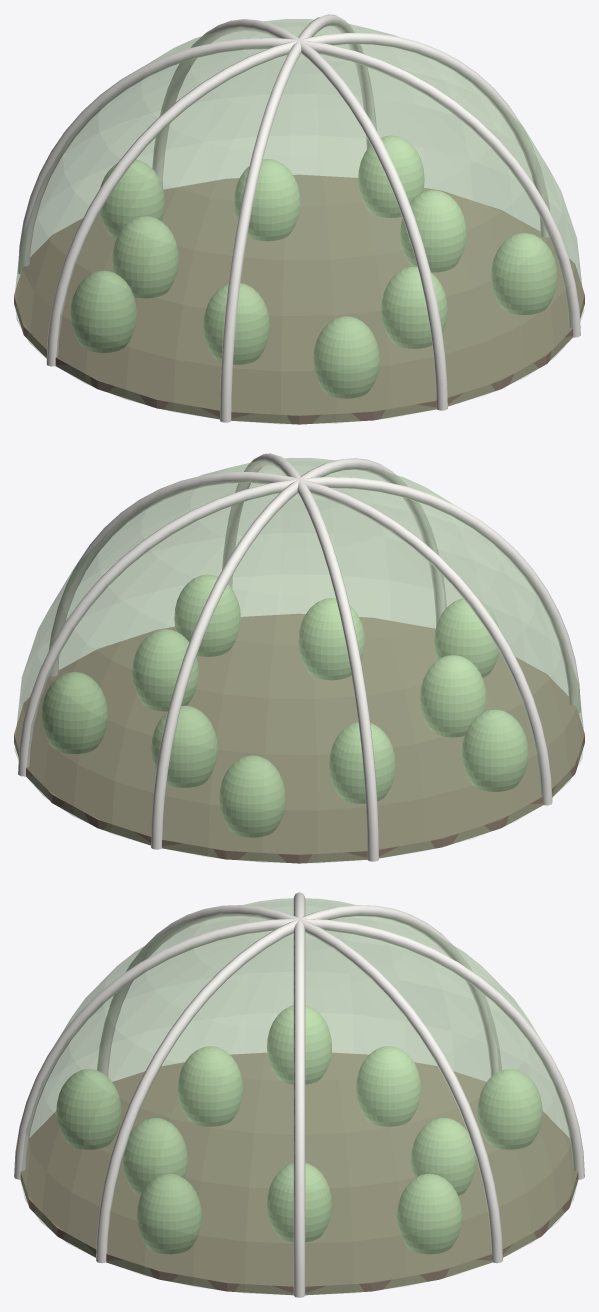
Rendered from greenhouse.glb.
3 views of the same model, one above another, from view 1: azimuth 30°, elevation 25°; view 2: azimuth 150°, elevation 25°; view 3: azimuth 270°, elevation 25° (orthographic). The views are drawn at different scales.
Parts seen in each view (by area): view 1: dome, greenhouse_base, rib_3, rib_0, rib_2, rib_1, plant_7, plant_9, plant_5, plant_4, plant_0, plant_2 (+4 smaller); view 2: dome, greenhouse_base, rib_1, rib_0, rib_2, rib_3, plant_3, plant_1, plant_5, plant_6, plant_0, plant_8 (+4 smaller); view 3: dome, greenhouse_base, rib_2, rib_1, rib_3, rib_0, plant_3, plant_7, plant_4, plant_6, plant_1, plant_9 (+4 smaller).
Part boxes in pixels (bbox=[...]): dome: bbox=[15, 19, 583, 423]; greenhouse_base: bbox=[14, 175, 584, 424]; rib_3: bbox=[18, 38, 580, 337]; rib_0: bbox=[46, 33, 549, 366]; rib_2: bbox=[152, 19, 447, 410]; rib_1: bbox=[220, 14, 376, 422]; plant_7: bbox=[313, 316, 379, 398]; plant_9: bbox=[491, 233, 557, 315]; plant_5: bbox=[70, 270, 136, 352]; plant_4: bbox=[112, 216, 178, 298]; plant_0: bbox=[400, 190, 466, 272]; plant_2: bbox=[234, 159, 300, 241]; dome: bbox=[15, 458, 583, 862]; greenhouse_base: bbox=[14, 614, 584, 863]; rib_1: bbox=[18, 477, 580, 776]; rib_0: bbox=[49, 472, 552, 805]; rib_2: bbox=[151, 458, 446, 849]; rib_3: bbox=[222, 453, 378, 861]; plant_3: bbox=[219, 755, 285, 837]; plant_1: bbox=[41, 672, 107, 754]; plant_5: bbox=[462, 709, 528, 791]; plant_6: bbox=[420, 655, 486, 737]; plant_0: bbox=[132, 629, 198, 711]; plant_8: bbox=[298, 598, 364, 680]; dome: bbox=[20, 898, 578, 1294]; greenhouse_base: bbox=[20, 1052, 578, 1295]; rib_2: bbox=[14, 918, 584, 1179]; rib_1: bbox=[97, 905, 502, 1263]; rib_3: bbox=[96, 905, 501, 1263]; rib_0: bbox=[293, 892, 305, 1297]; plant_3: bbox=[477, 1069, 542, 1149]; plant_7: bbox=[56, 1069, 121, 1149]; plant_4: bbox=[356, 1046, 420, 1126]; plant_6: bbox=[178, 1046, 242, 1126]; plant_1: bbox=[397, 1173, 462, 1254]; plant_9: bbox=[136, 1173, 201, 1254].
Size of the model in its own units: 4.9 by 2.48 by 4.9.
